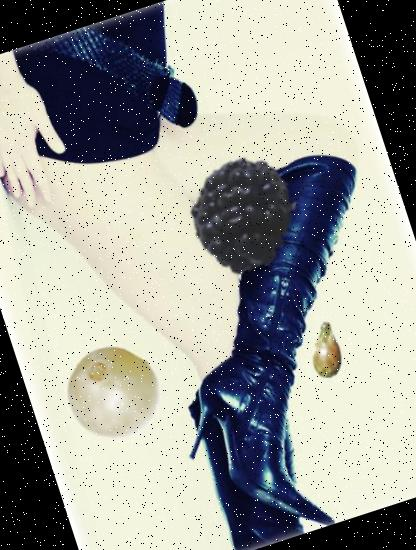Cactus: (292, 314, 364, 386)
Grape: (52, 333, 174, 454)
Mulberry: (138, 110, 322, 294)
